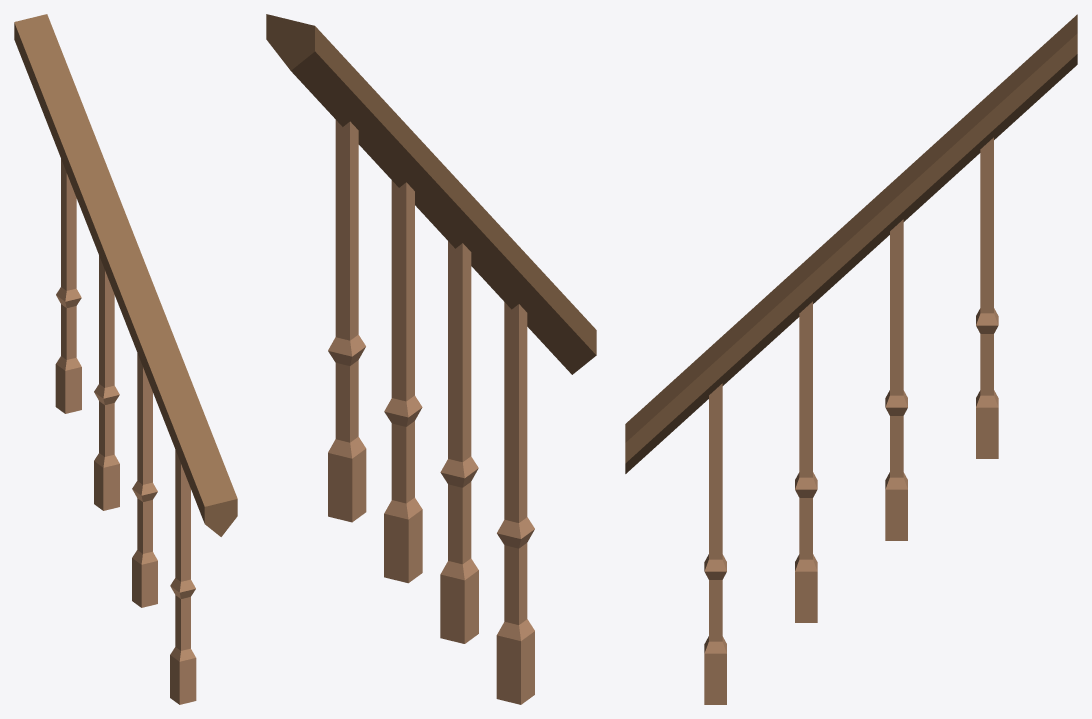
The model's file is Stairs_Straight_Handrail.obj.
The picture shows the model from 3 angles, left to right: view 1: azimuth 30°, elevation 25°; view 2: azimuth 150°, elevation 25°; view 3: azimuth 270°, elevation 25°; orthographic projection. The views are drawn at different scales.
Visible parts, largest first — view 1: object3, object1, object5, object2, object4; view 2: object3, object4, object1, object5, object2; view 3: object3, object4, object1, object5, object2.
Part boxes in pixels (x1=…): object3: x1=14, y1=14, x2=237, y2=536; object1: x1=170, y1=450, x2=196, y2=704; object5: x1=55, y1=159, x2=81, y2=413; object2: x1=132, y1=353, x2=157, y2=607; object4: x1=94, y1=255, x2=119, y2=510; object3: x1=266, y1=14, x2=596, y2=374; object4: x1=384, y1=180, x2=422, y2=583; object1: x1=496, y1=302, x2=534, y2=704; object5: x1=328, y1=120, x2=366, y2=522; object2: x1=440, y1=241, x2=478, y2=643; object3: x1=625, y1=14, x2=1077, y2=473; object4: x1=885, y1=219, x2=907, y2=540; object1: x1=704, y1=383, x2=726, y2=704; object5: x1=976, y1=137, x2=998, y2=458; object2: x1=795, y1=301, x2=817, y2=622.
Bounding box in the file's own units: 0.1 × 1.65 × 1.
